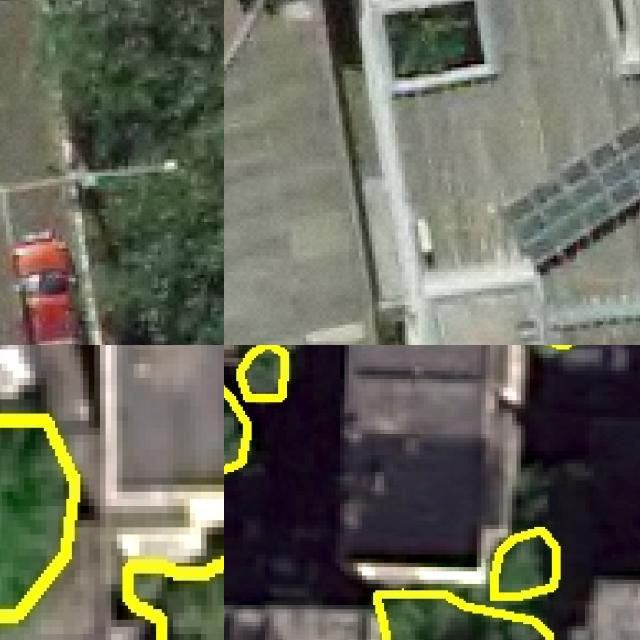trees: (49, 1, 225, 346), (50, 1, 225, 346), (1, 418, 76, 617), (126, 560, 225, 640), (493, 530, 557, 598), (240, 346, 286, 399), (225, 389, 248, 471)
